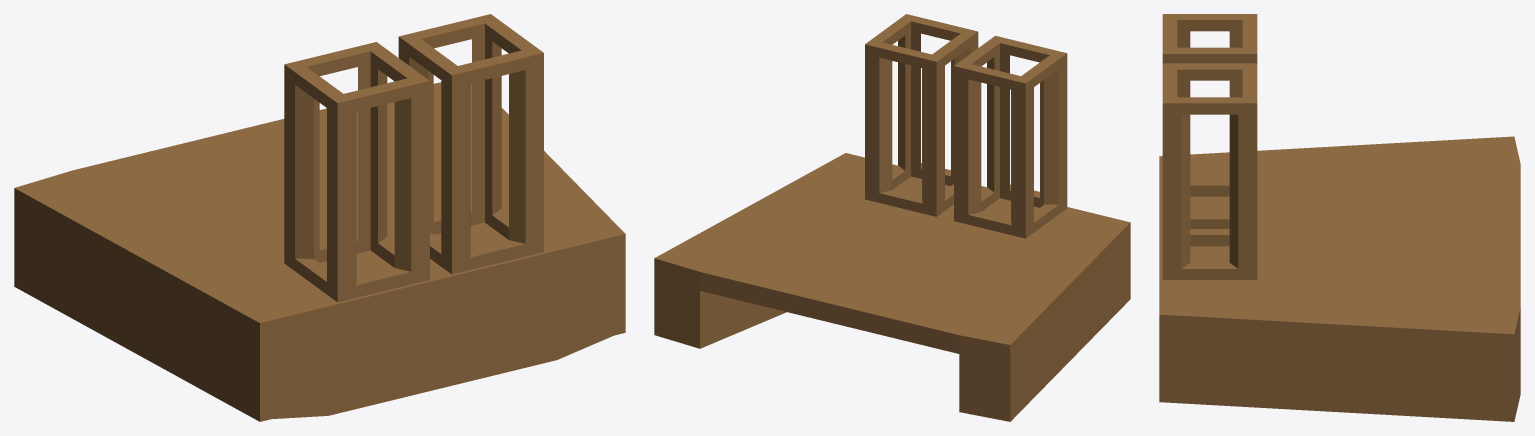
File: stone_slinger_magazine(rapid+2).fbx
The picture shows the model from 3 angles, left to right: view 1: azimuth 30°, elevation 25°; view 2: azimuth 150°, elevation 25°; view 3: azimuth 270°, elevation 25°; orthographic projection. The views are drawn at different scales.
Visible parts, largest first — view 1: magazine_visual(rapid); view 2: magazine_visual(rapid); view 3: magazine_visual(rapid).
Part boxes in pixels (bbox=[...]): magazine_visual(rapid): bbox=[14, 14, 625, 421]; magazine_visual(rapid): bbox=[654, 14, 1130, 421]; magazine_visual(rapid): bbox=[1159, 14, 1520, 421].
Size of the model in its own units: 99.02 by 63.87 by 76.34.
1 material, 1 textured.
